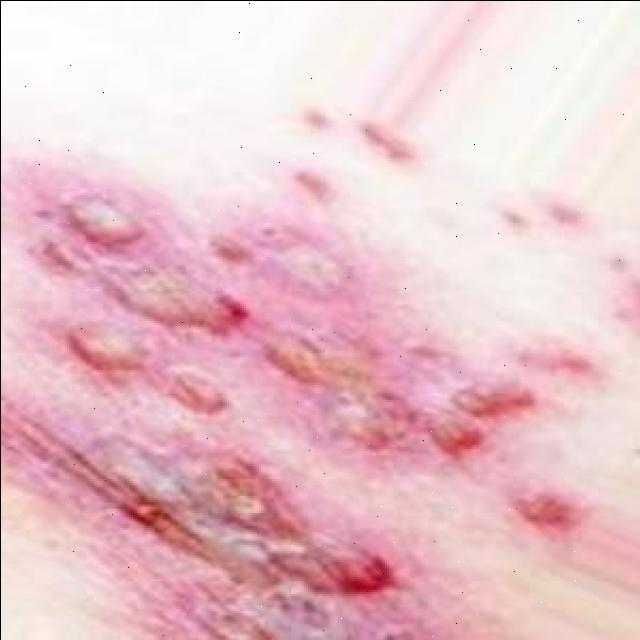Shingles: (13, 182, 577, 597)
